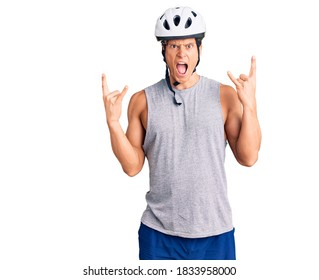helmet: (154, 6, 206, 82)
